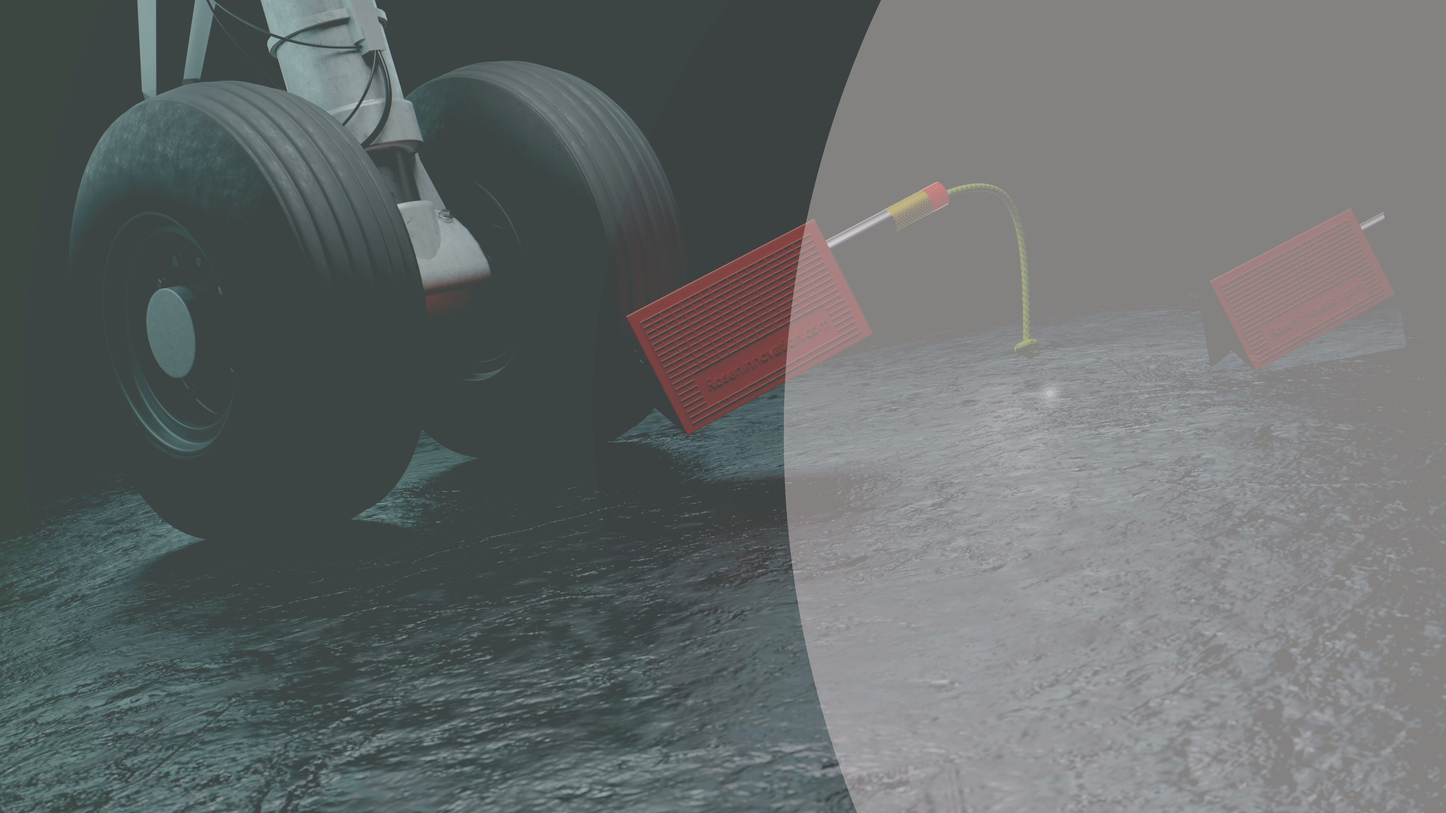chock: (597, 207, 889, 449), (1188, 199, 1407, 381)
wheel: (28, 47, 461, 572), (348, 27, 719, 483)
